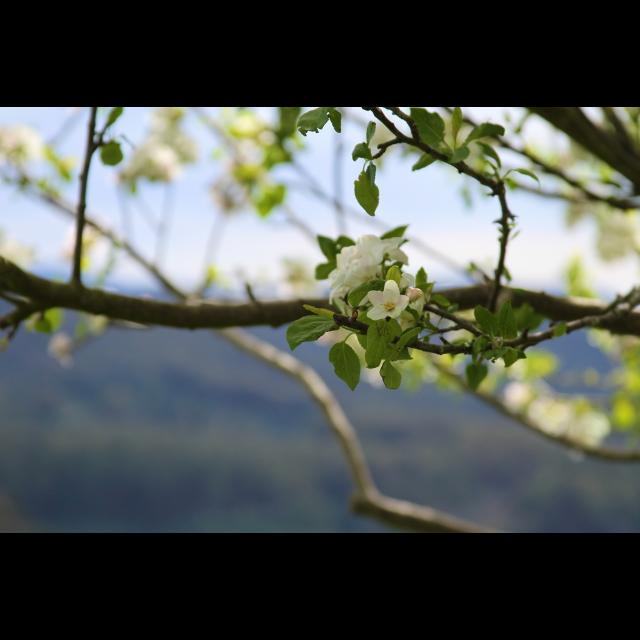Flower: (329, 233, 421, 297), (365, 274, 419, 328)
